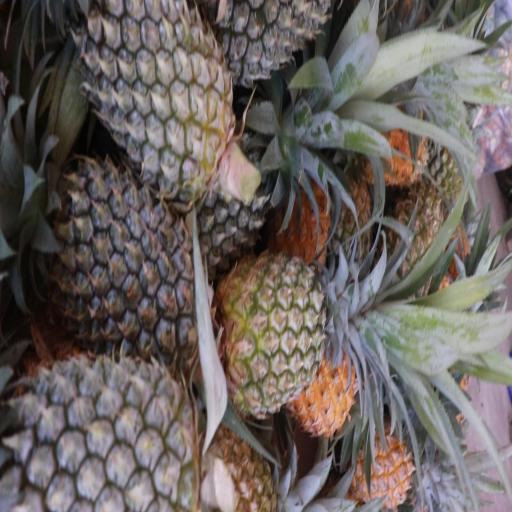------------------------------: (218, 256, 374, 406)
